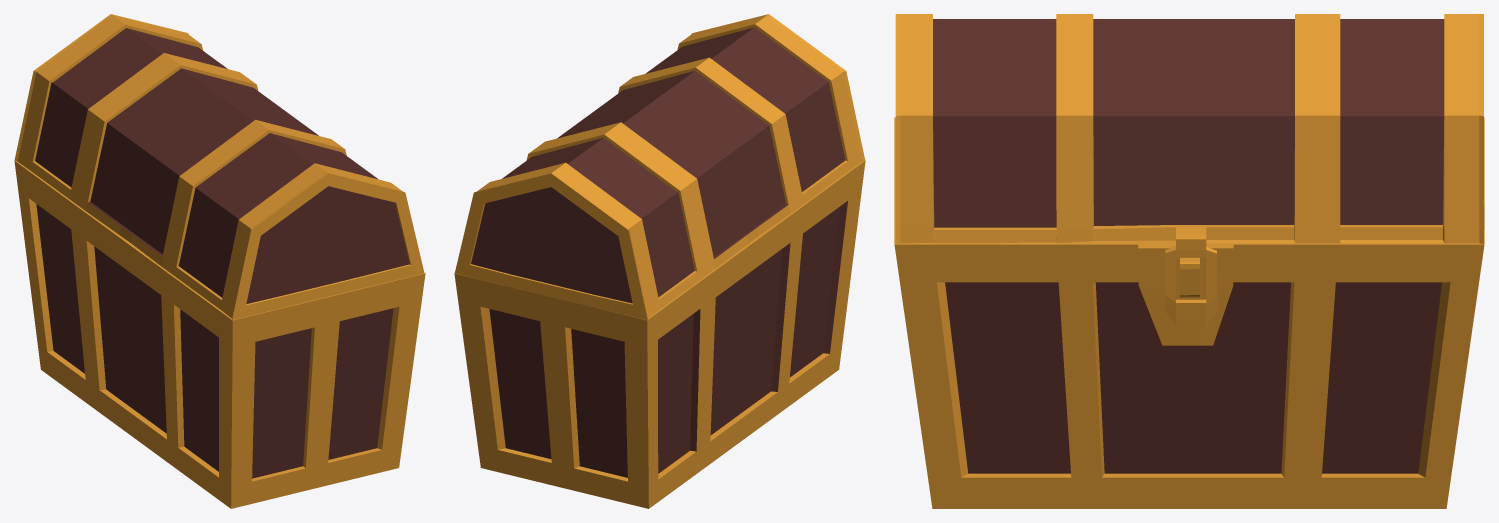
File: Chest.glb
The picture shows the model from 3 angles, left to right: view 1: azimuth 30°, elevation 25°; view 2: azimuth 150°, elevation 25°; view 3: azimuth 270°, elevation 25°; orthographic projection. The views are drawn at different scales.
Visible parts, largest first — view 1: ChestLidOne; view 2: ChestLidOne; view 3: ChestLidOne.
Boxes of the visible parts, bbox=[...] form: ChestLidOne: bbox=[14, 14, 425, 508]; ChestLidOne: bbox=[454, 14, 865, 508]; ChestLidOne: bbox=[894, 14, 1484, 508].
Size of the model in its own units: 2.18 by 3.22 by 3.92.
